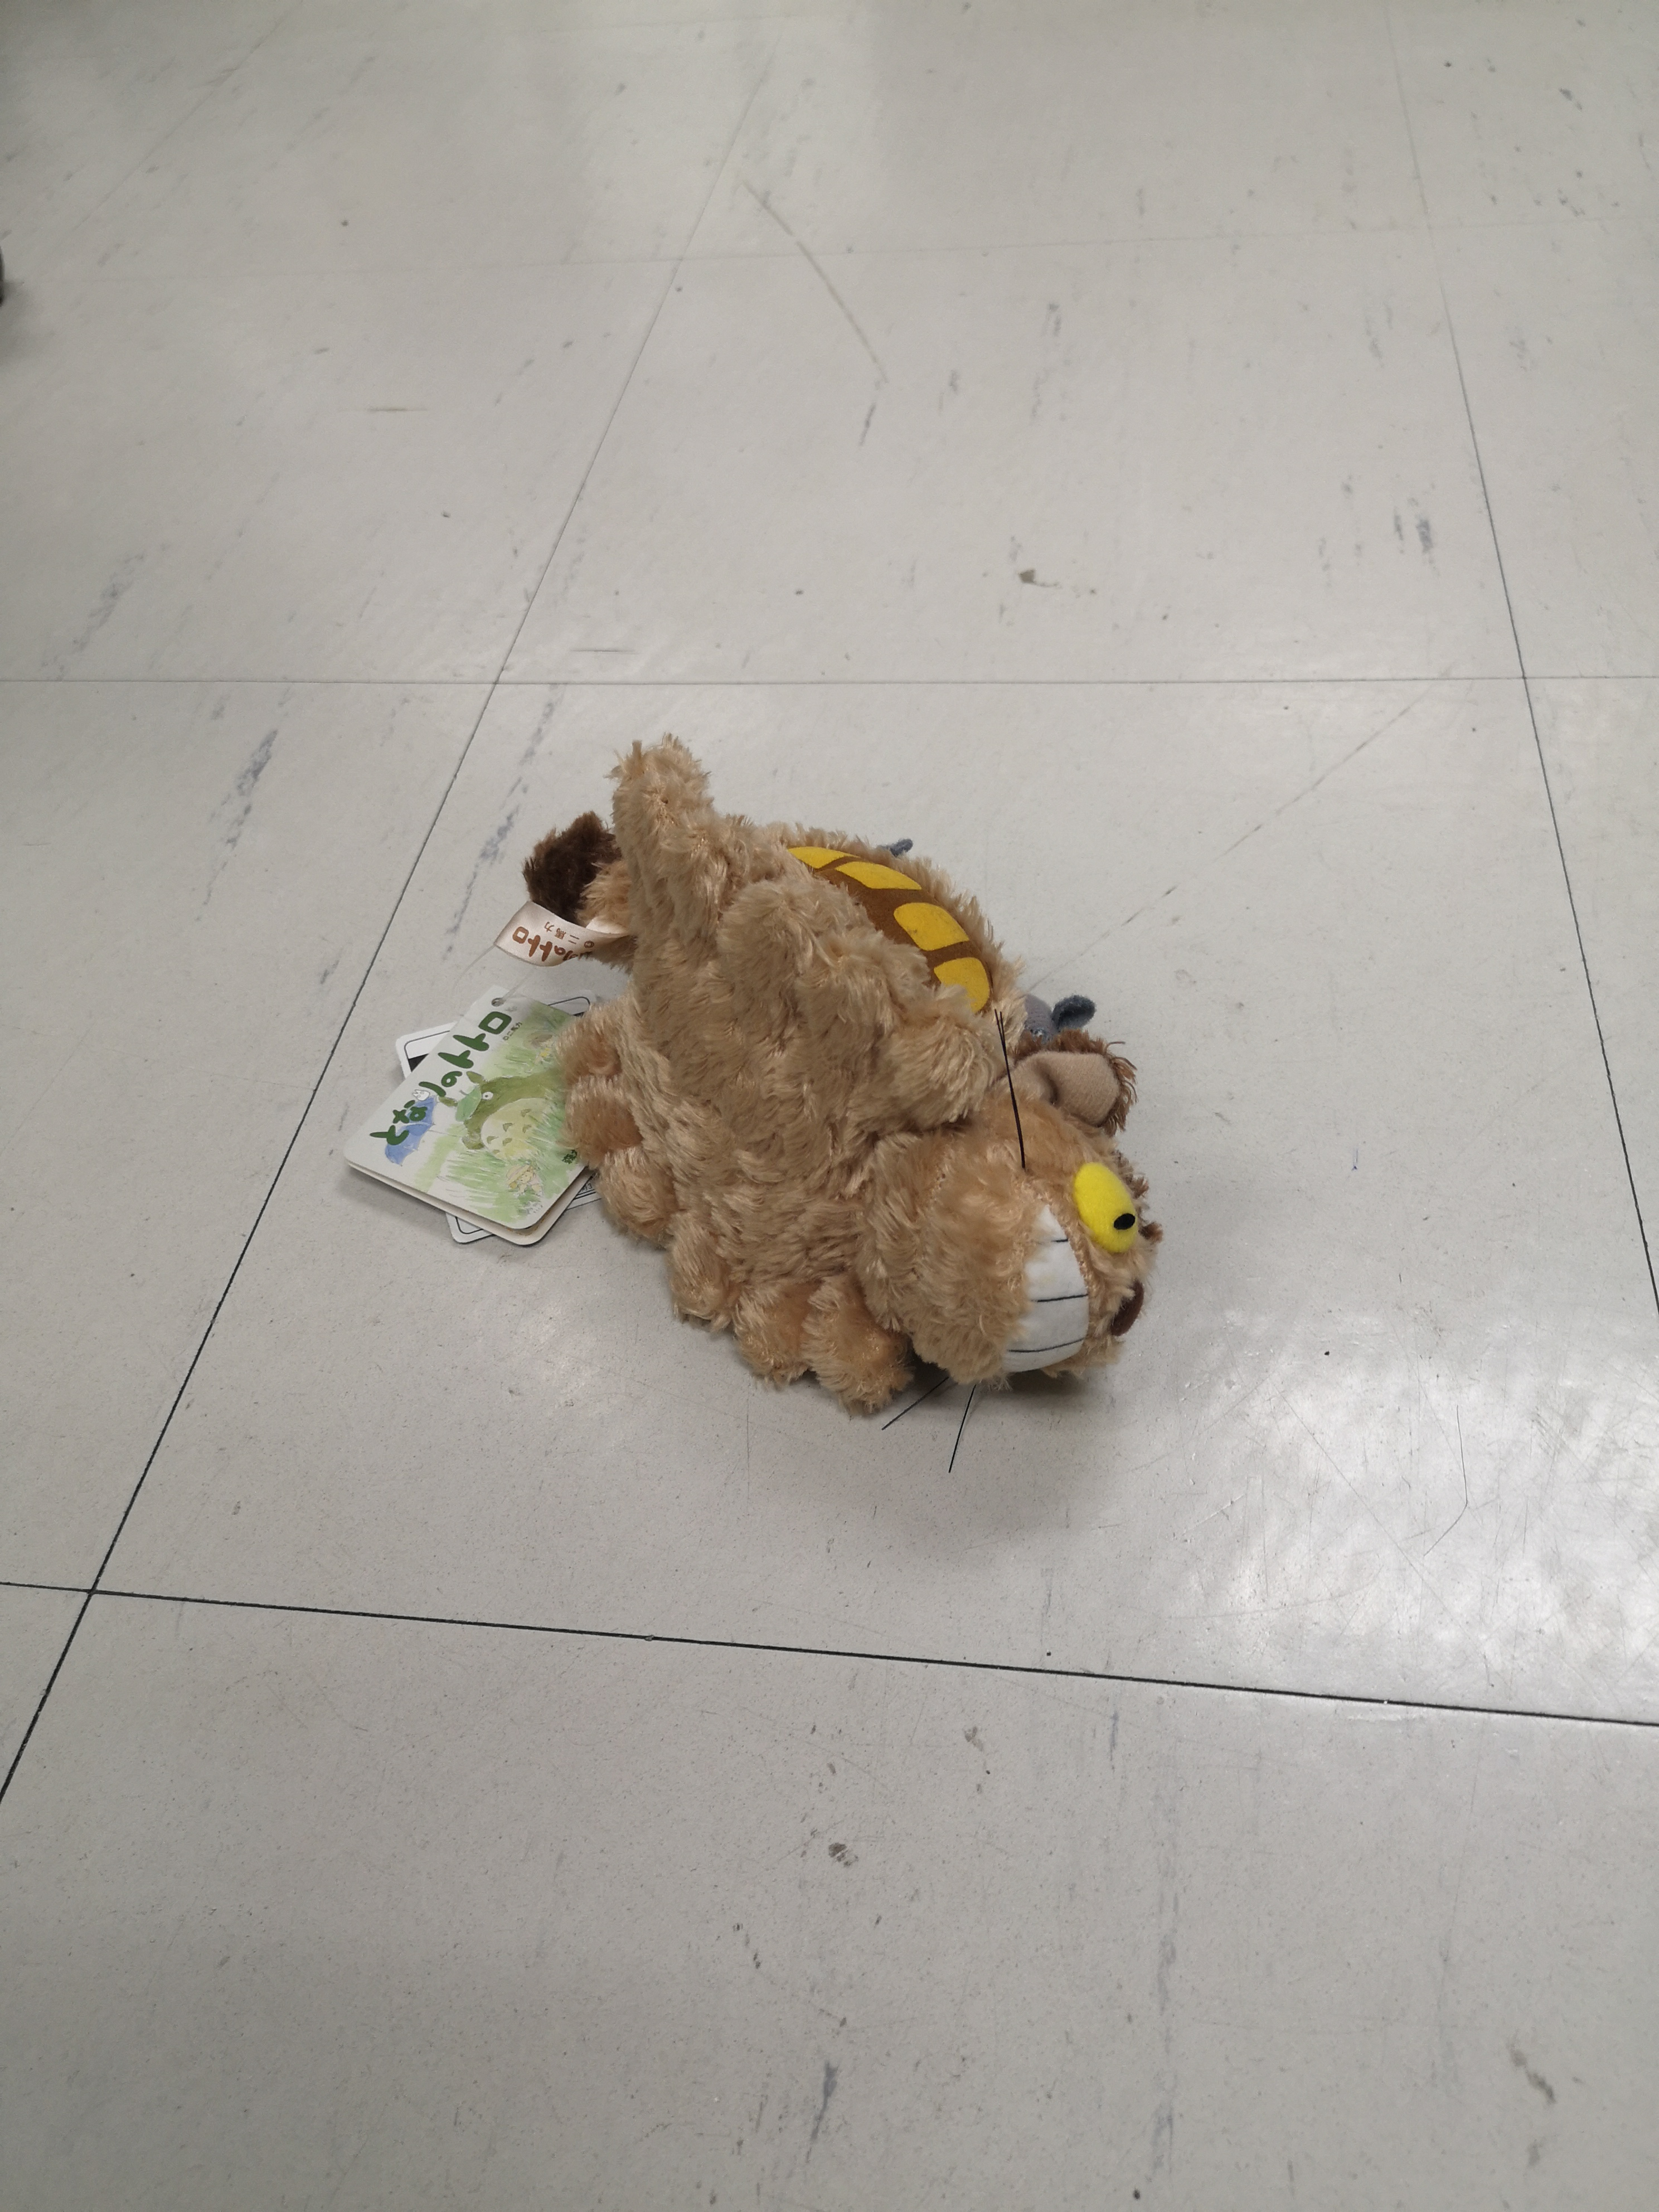nekobus: (502, 721, 1206, 1477)
